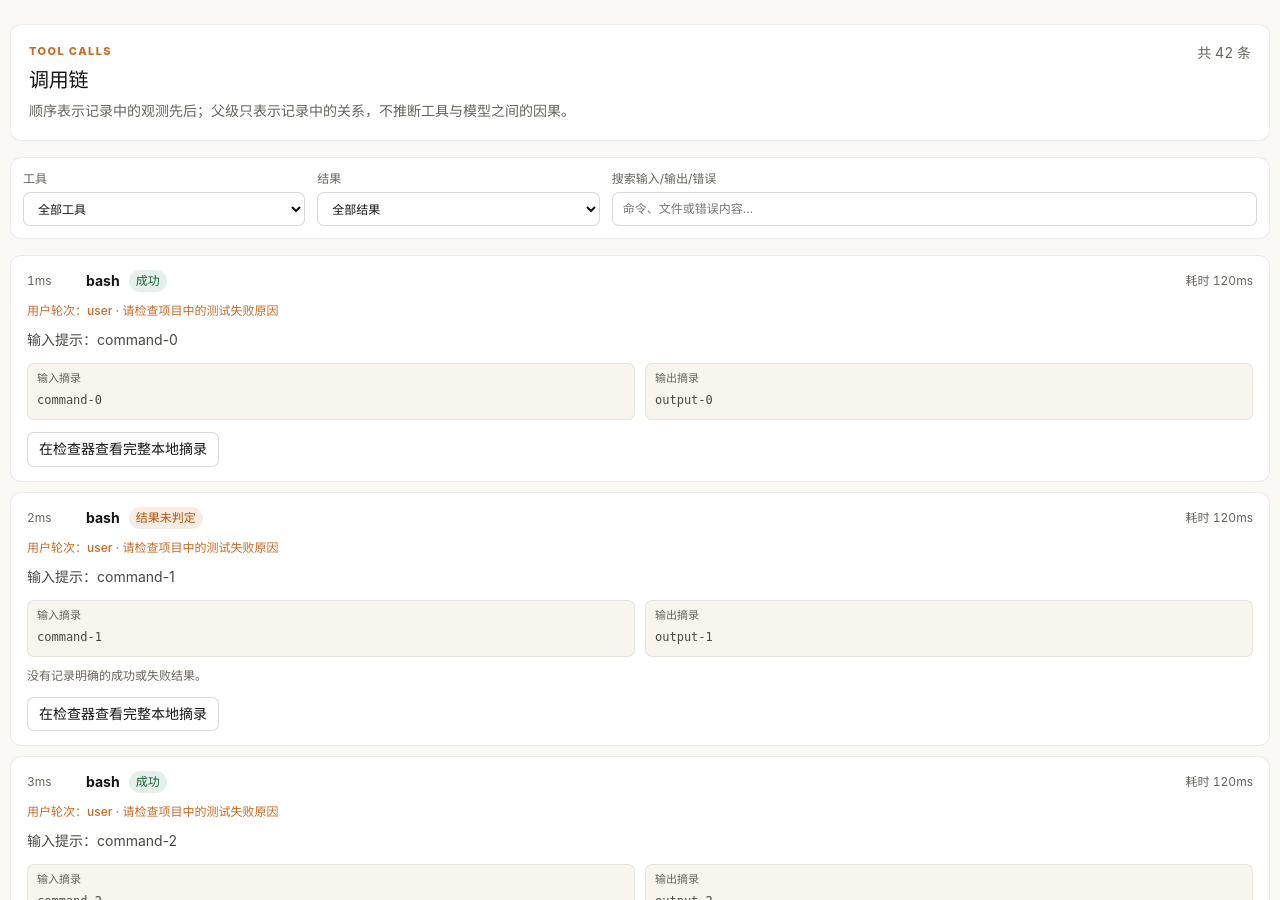
Test: SessionTools › labels recorded success separately from an unconfirmed result
The width and height of the screenshot is (1280, 900).
Expected: the 1st text "成功" is shown, [129, 270, 167, 292]
Expected: the text "没有记录明确的成功或失败结果。" is shown, [27, 668, 207, 683]
Select "结果未判定" in the dropdown labelled "结果" at (458, 209), box [317, 192, 600, 226]
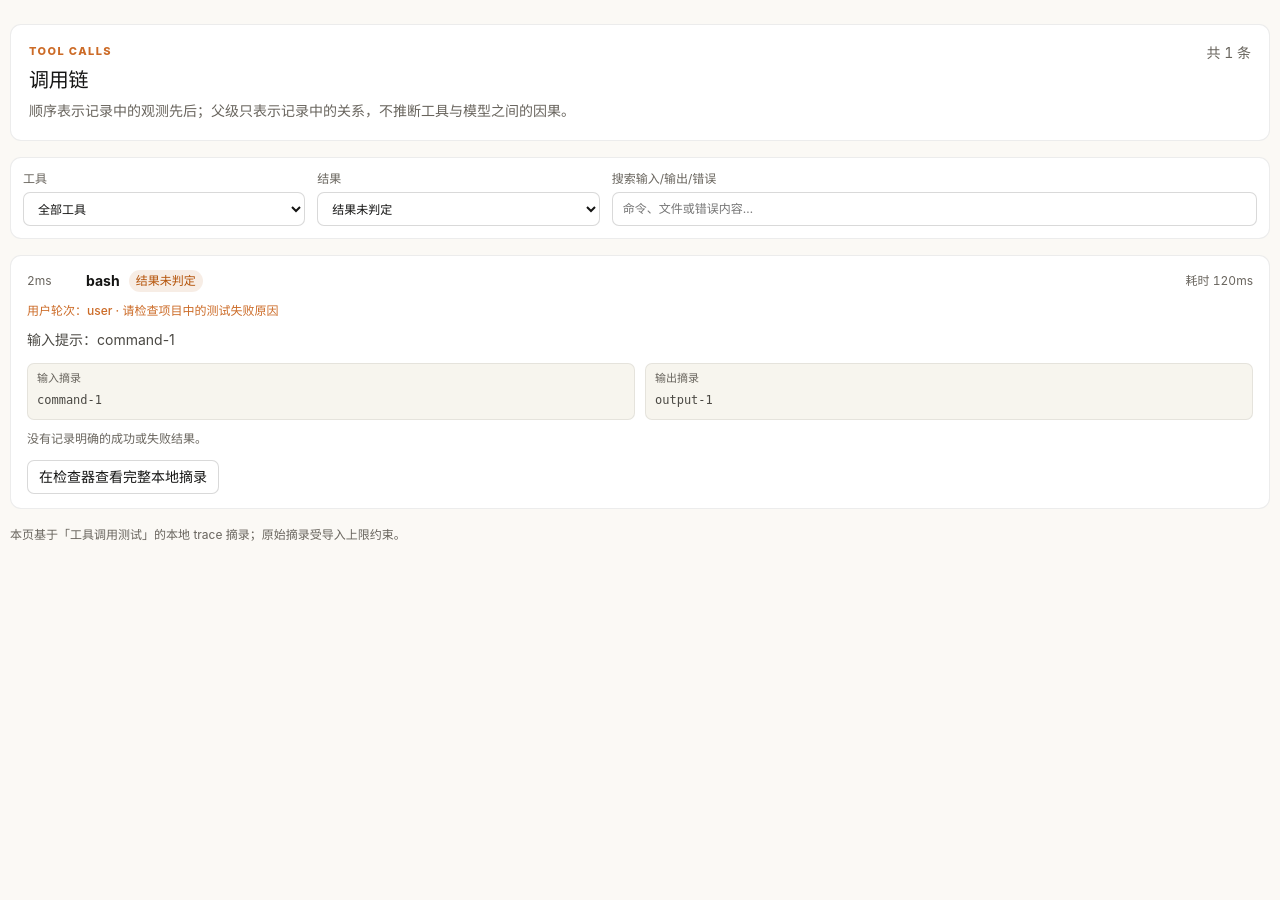
Now the text "共 1 条" is shown, box [1206, 43, 1251, 64]
